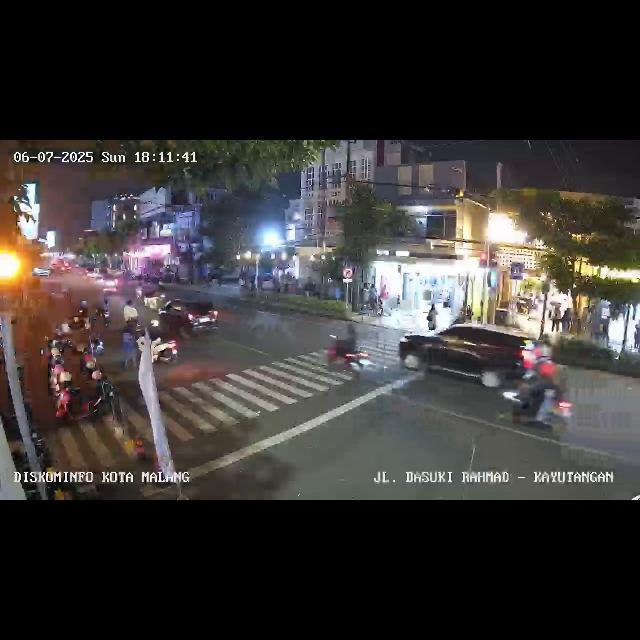car: (399, 322, 539, 390), (156, 300, 220, 338), (94, 276, 122, 296), (32, 266, 52, 280)
motorcycle: (500, 355, 574, 435), (324, 322, 370, 381), (150, 318, 180, 366), (98, 294, 114, 326)
person: (120, 320, 138, 374), (550, 302, 560, 334), (427, 302, 438, 330), (561, 306, 571, 334), (632, 318, 640, 352)
